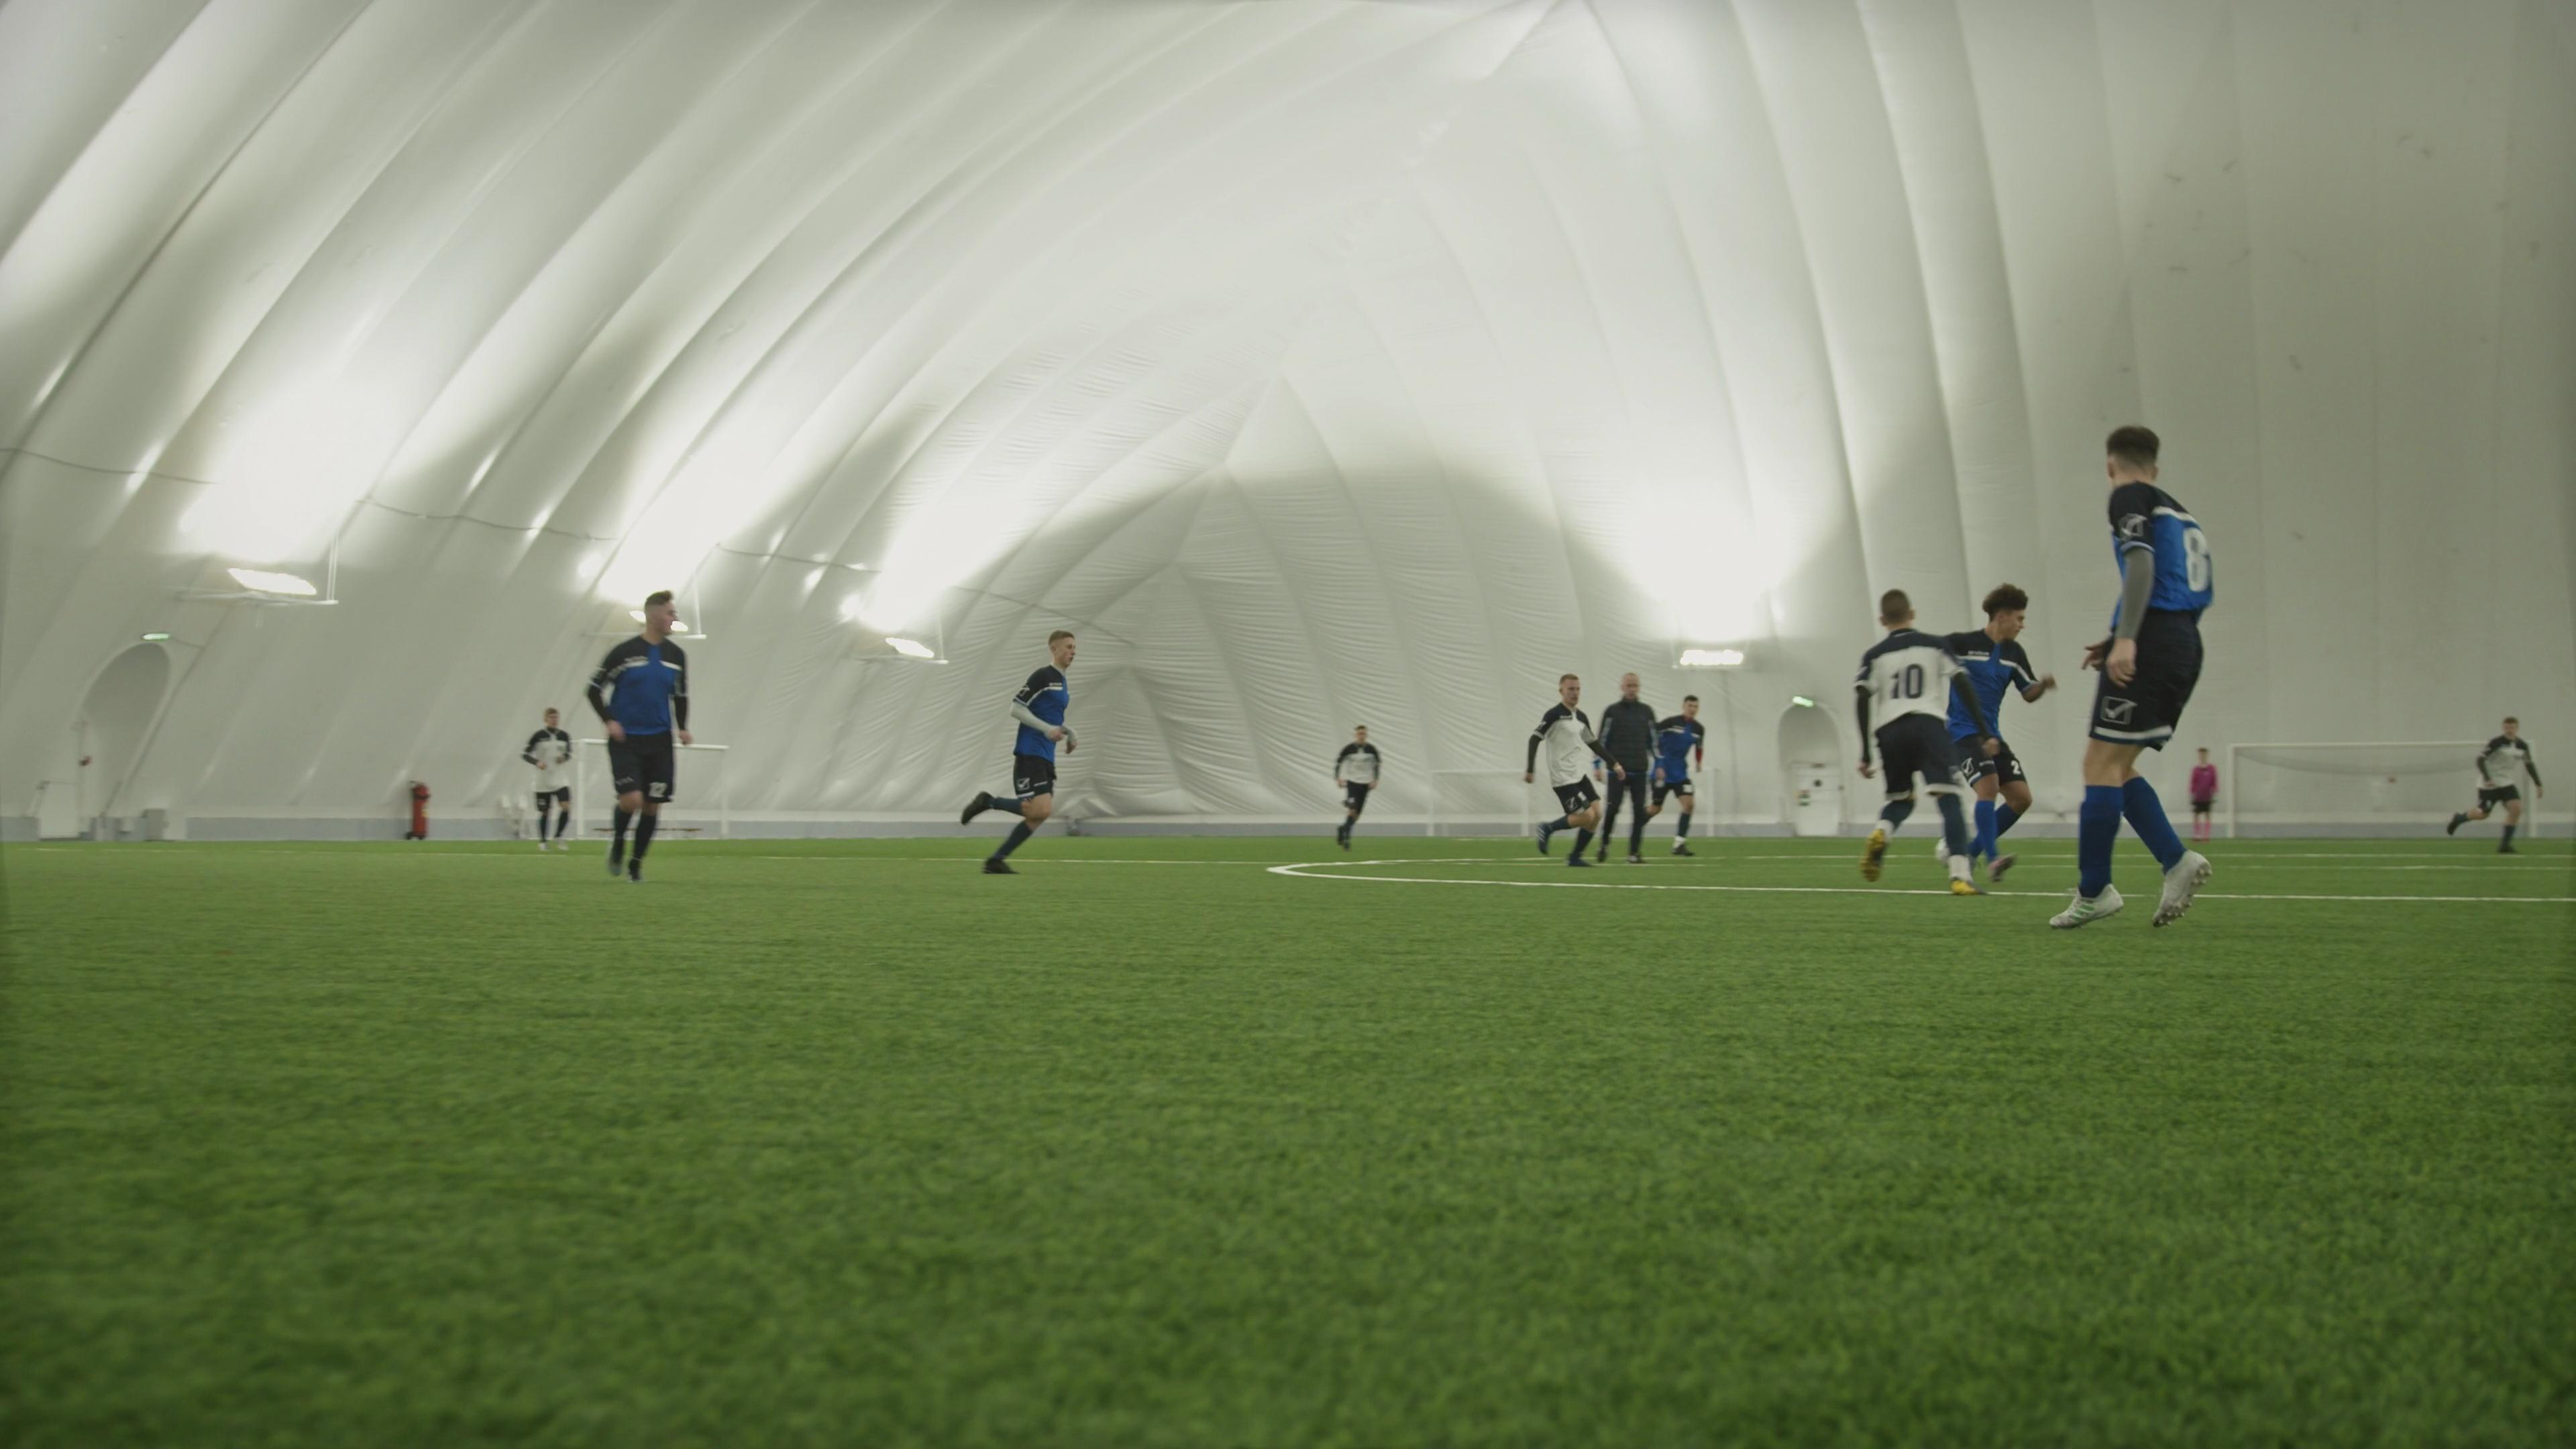other: (1591, 671, 1660, 862)
team1: (2047, 425, 2217, 931), (1888, 584, 2049, 892), (1941, 582, 2047, 893), (586, 591, 692, 883), (971, 628, 1081, 878), (2450, 709, 2541, 853), (1651, 697, 1704, 856)
team2: (1851, 587, 1960, 886), (1525, 674, 1608, 865), (518, 704, 580, 847), (1332, 725, 1384, 855)
